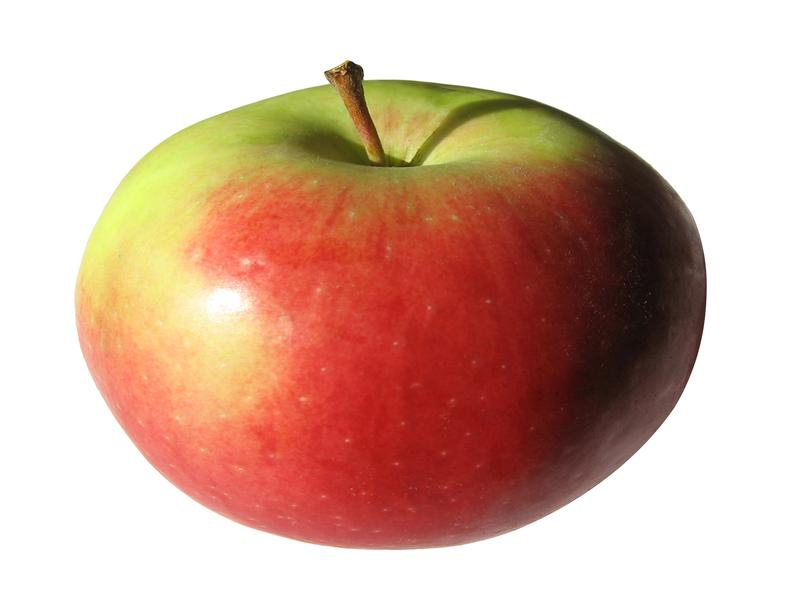apple: (67, 45, 739, 553)
